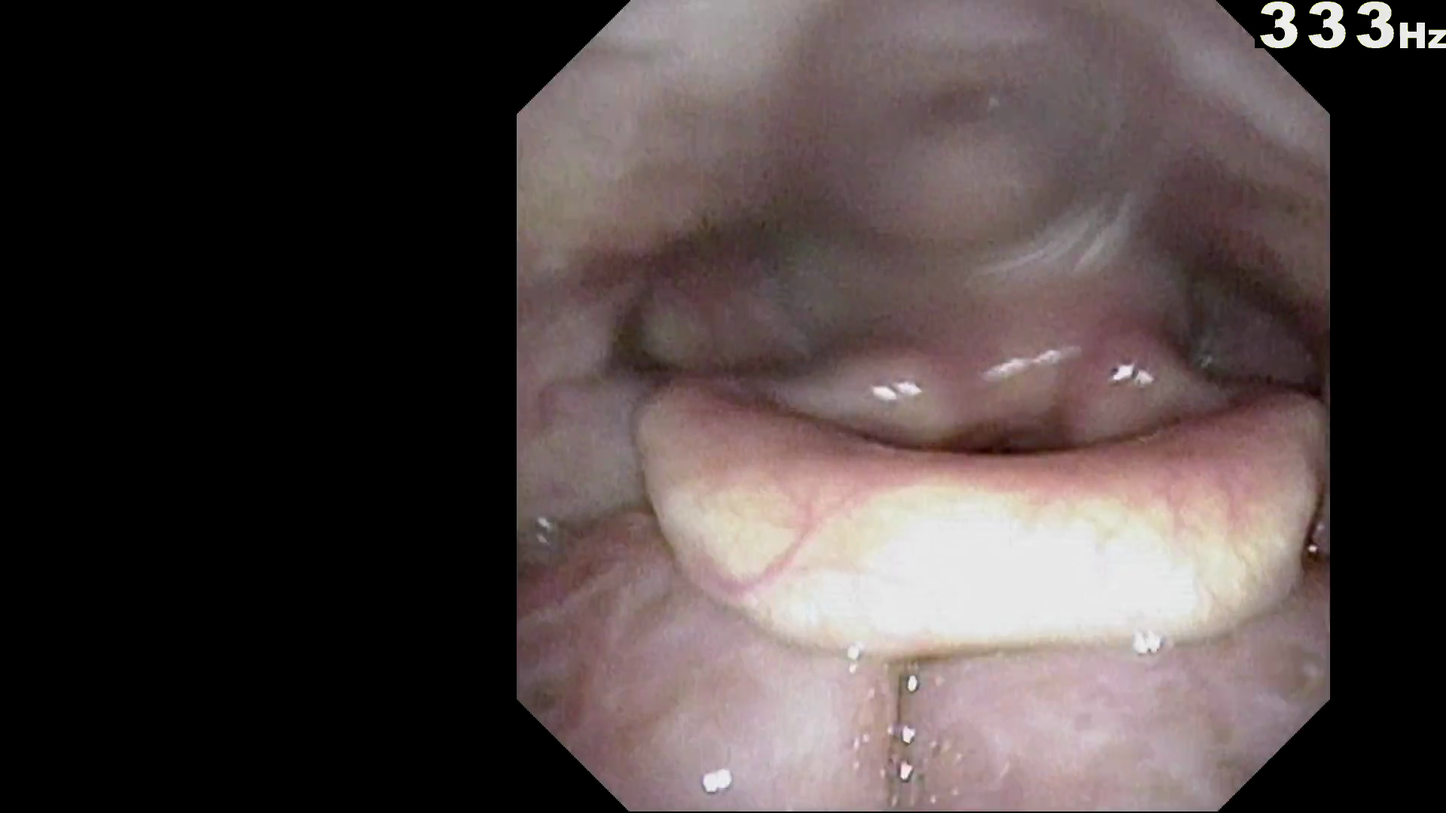epiglottis: (686, 397, 1295, 622)
